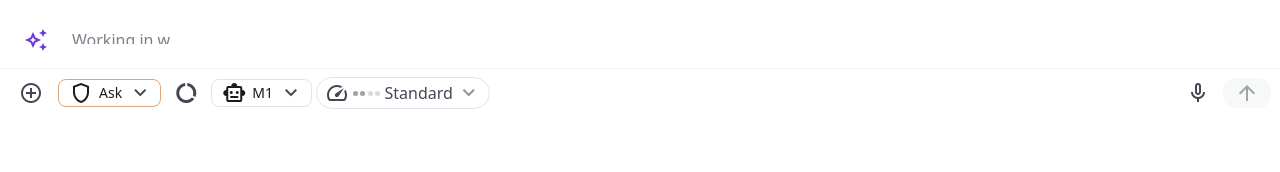
Test case: ChatInput input history recall (A-22) › any user typing exits history mode (snapshot abandoned, Down is inert)
Press ArrowUp in the text box named "Message", box [64,12,1272,44]
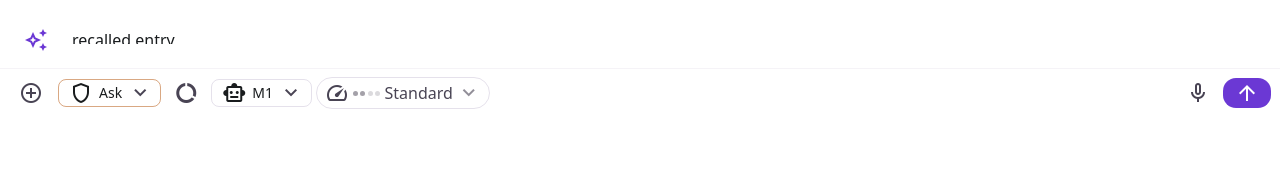
Expected: the text box named "Message" holds "recalled entry"
Replace the text in the text box named "Message" with "typed by hand" at (668, 28), box [64,12,1272,44]
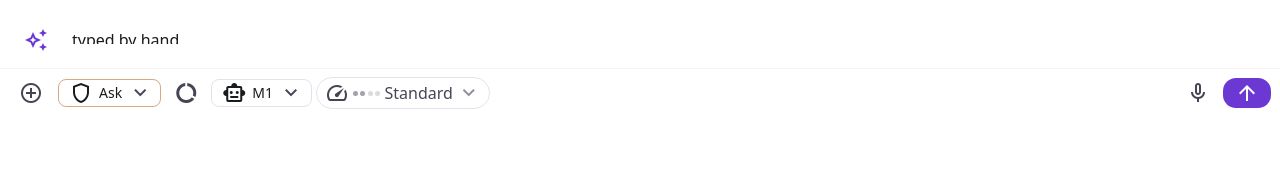
Press ArrowDown in the text box named "Message", box [64,12,1272,44]
Press ArrowUp in the text box named "Message", box [64,12,1272,44]
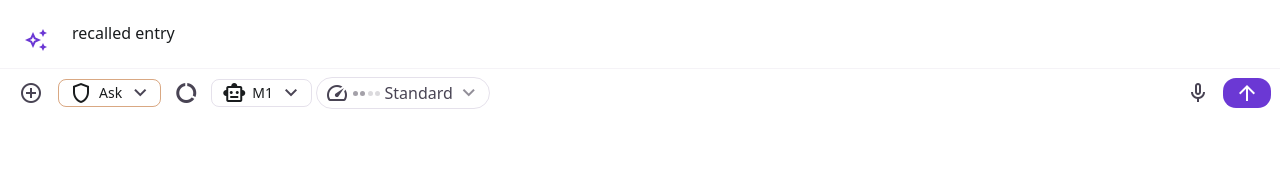
Expected: the text box named "Message" holds "recalled entry", [64,12,1272,44]
